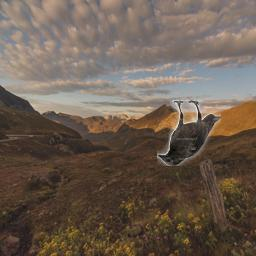Crow: (157, 100, 221, 166)
